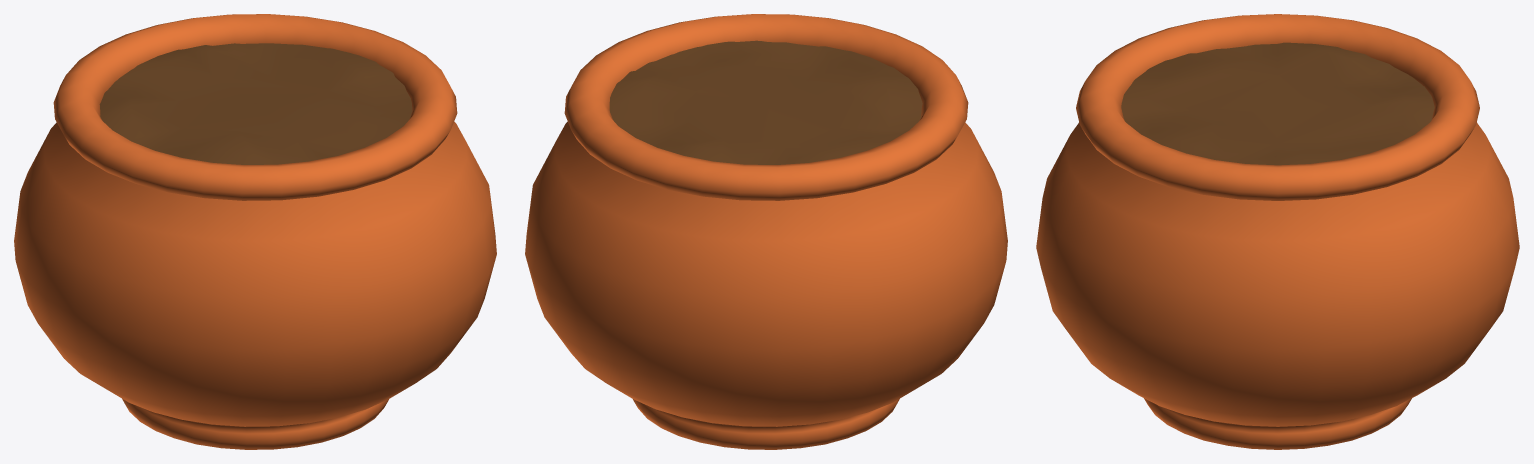
The model's file is Planter_1_Terracotta.fbx.
The picture shows the model from 3 angles, left to right: view 1: azimuth 30°, elevation 25°; view 2: azimuth 150°, elevation 25°; view 3: azimuth 270°, elevation 25°; orthographic projection.
Visible parts, largest first — view 1: Planter_1_Terracotta; view 2: Planter_1_Terracotta; view 3: Planter_1_Terracotta.
Part boxes in pixels (x1,y1,x2,y2): Planter_1_Terracotta: [14, 14, 496, 449]; Planter_1_Terracotta: [525, 14, 1007, 449]; Planter_1_Terracotta: [1036, 14, 1519, 449].
Bounding box in the file's own units: 49.42 × 34.77 × 49.42.
Materials: 1 (1 with a texture image).
